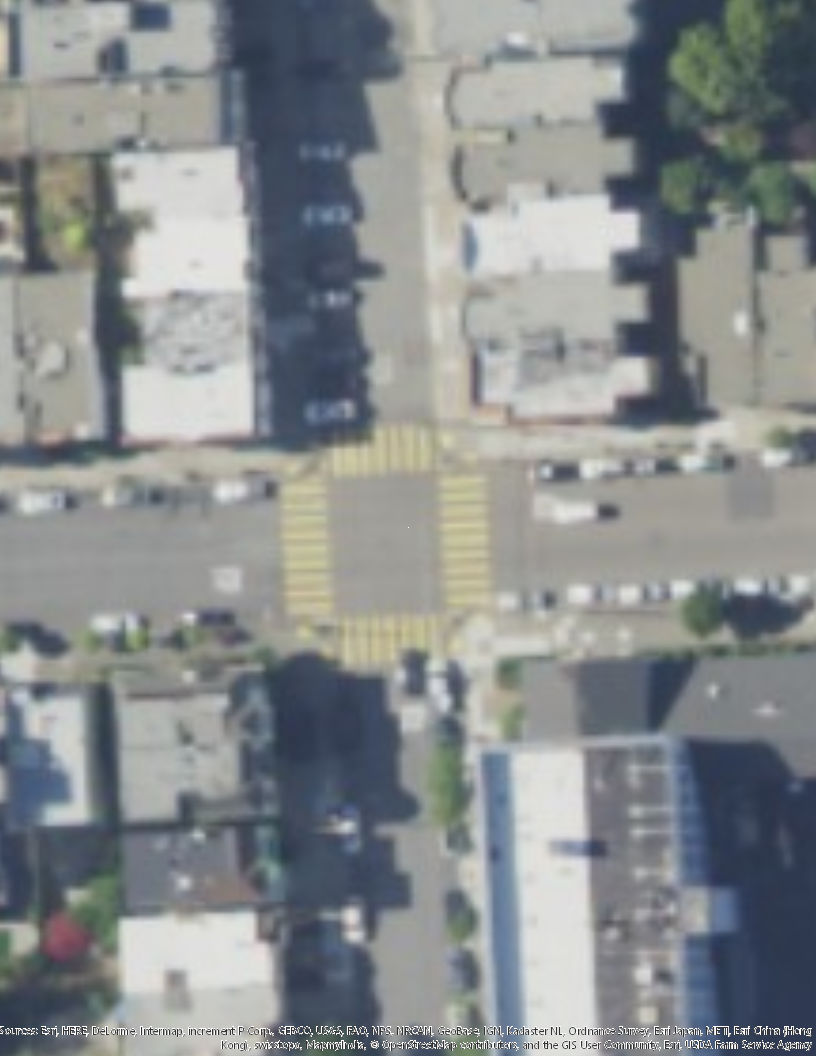zebracross: (434, 469, 494, 606), (281, 475, 333, 613), (326, 423, 444, 474), (337, 612, 439, 666)
